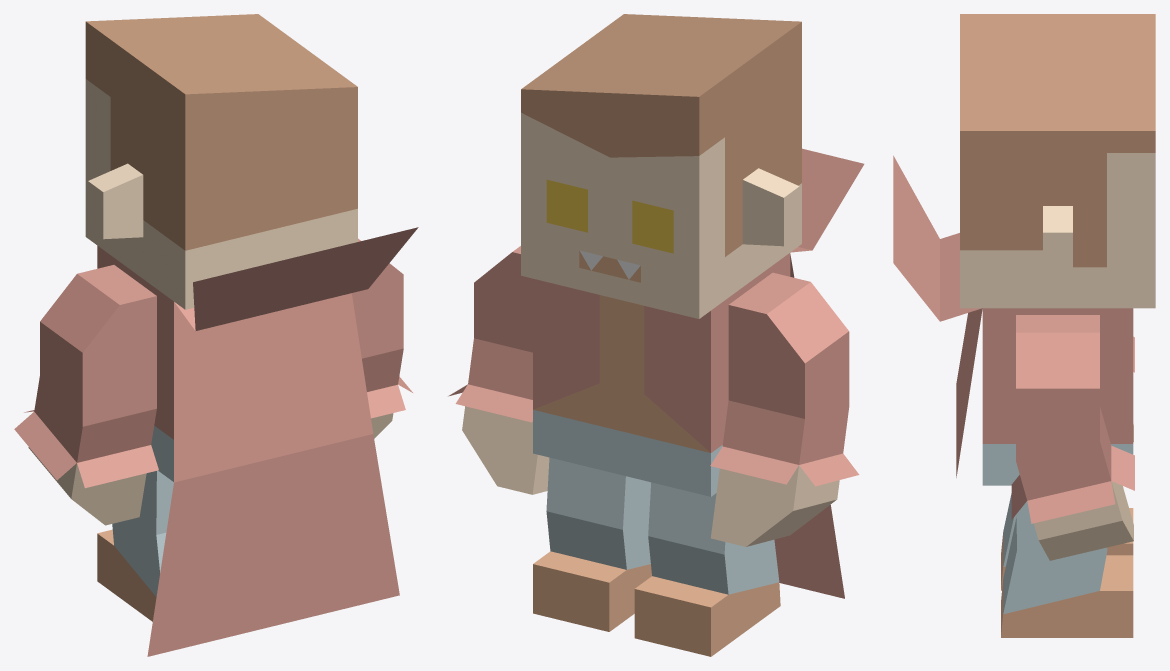
File: vampire.glb
3 views of the same model, side by side, from view 1: azimuth 30°, elevation 25°; view 2: azimuth 150°, elevation 25°; view 3: azimuth 270°, elevation 25° (orthographic). The views are drawn at different scales.
Visible parts, largest first — view 1: cape, head, armLeft, legLeft, armRight, body; view 2: head, body, armLeft, legLeft, legRight, armRight, cape; view 3: head, armRight, legRight, body, cape, legLeft.
Boxes of the visible parts, x1,y1,x2,y2 form: cape: [147, 227, 418, 656]; head: [85, 14, 357, 309]; armLeft: [14, 265, 158, 525]; legLeft: [97, 470, 173, 621]; armRight: [352, 238, 412, 438]; body: [97, 245, 173, 481]; head: [521, 14, 801, 318]; body: [533, 253, 790, 496]; armLeft: [710, 272, 859, 546]; legLeft: [634, 482, 780, 656]; legRight: [533, 457, 651, 631]; armRight: [448, 246, 549, 494]; cape: [774, 148, 864, 598]; head: [960, 14, 1155, 308]; armRight: [1011, 315, 1134, 560]; legRight: [1001, 501, 1133, 637]; body: [982, 308, 1133, 485]; cape: [893, 155, 982, 477]; legLeft: [1001, 493, 1133, 590].
Size of the model in its own units: 0.5371 by 0.7932 by 0.3489.
